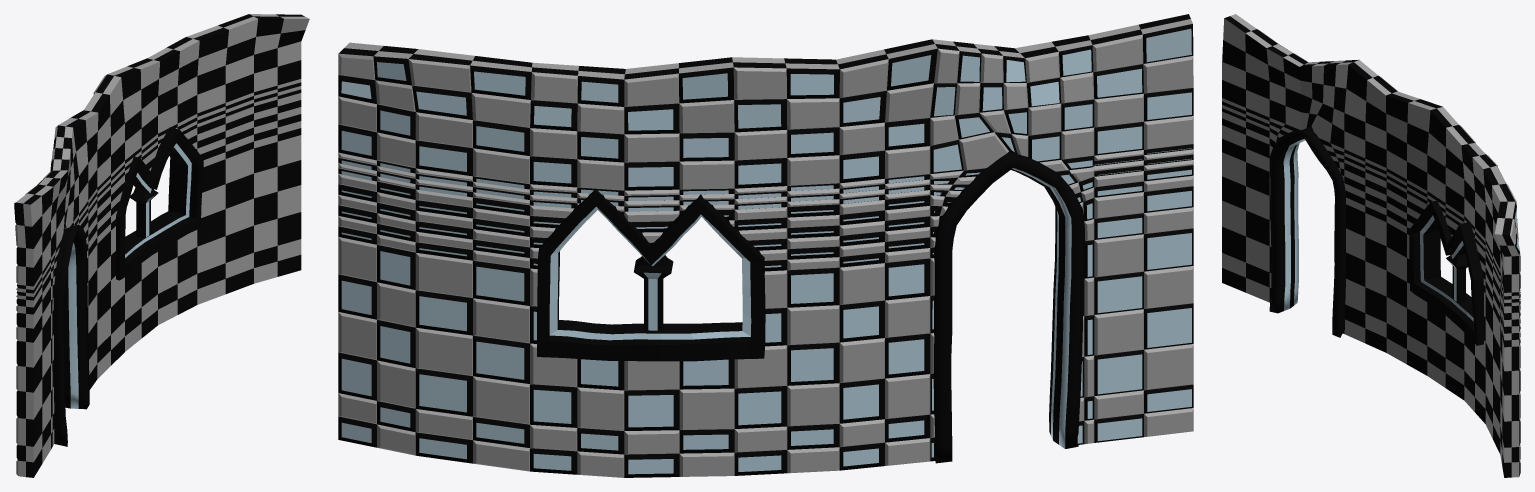
Rendered from newcampfirewallpt2 2.fbx.
The picture shows the model from 3 angles, left to right: view 1: azimuth 30°, elevation 25°; view 2: azimuth 150°, elevation 25°; view 3: azimuth 270°, elevation 25°; orthographic projection. The views are drawn at different scales.
Visible parts, largest first — view 1: Wall; view 2: Wall; view 3: Wall.
Boxes of the visible parts, x1,y1,x2,y2 form: Wall: (14, 14, 309, 477); Wall: (338, 14, 1193, 477); Wall: (1222, 14, 1520, 477).
Size of the model in its own units: 1183 by 735 by 740.
